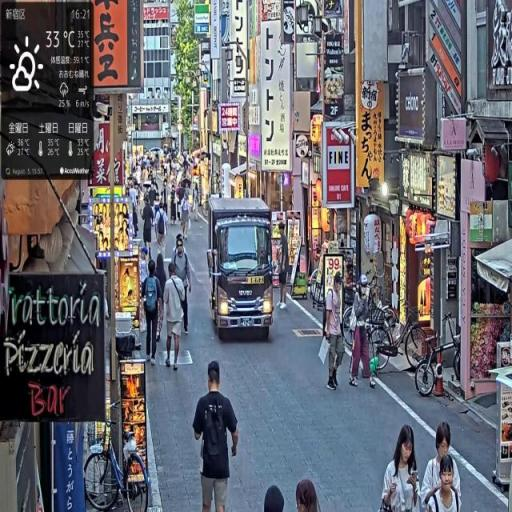person: (192, 360, 240, 512), (381, 423, 423, 512), (422, 421, 463, 509), (349, 273, 378, 391), (324, 270, 346, 392), (162, 263, 186, 372), (141, 260, 164, 365), (171, 236, 193, 336), (277, 224, 291, 309), (155, 198, 169, 256), (142, 197, 155, 259)
